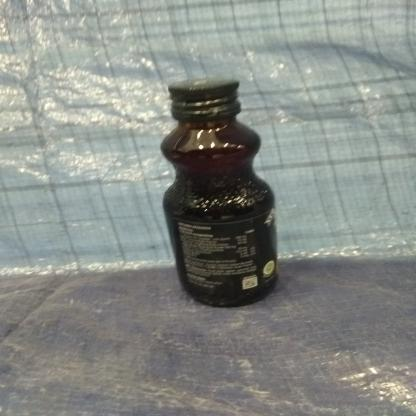bottle: (152, 74, 283, 316)
